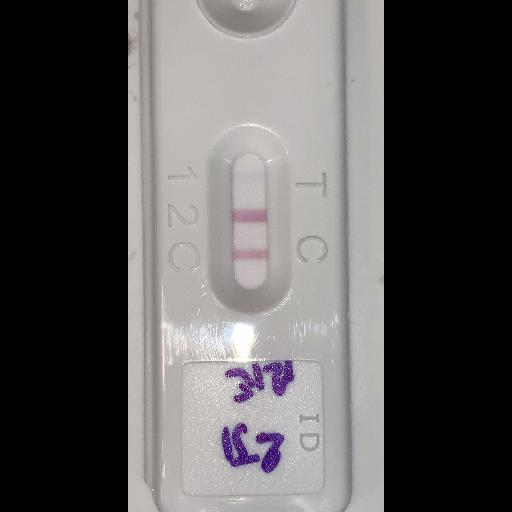Pos: (144, 0, 351, 505)
